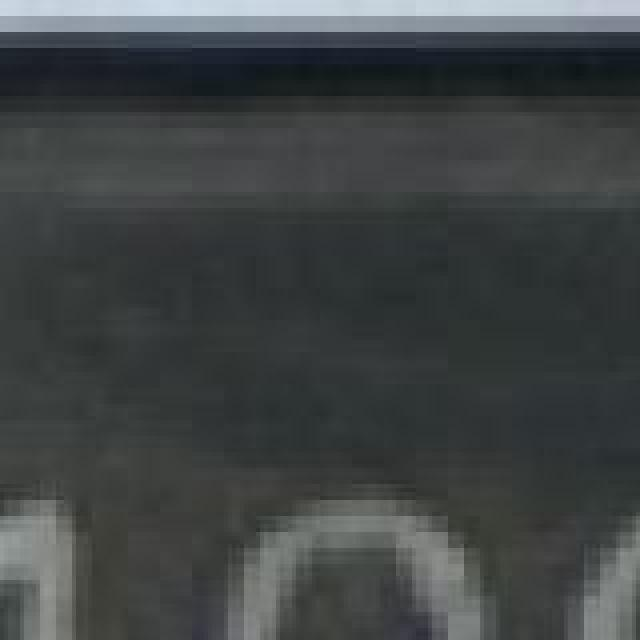inductor: (0, 152, 640, 640)
